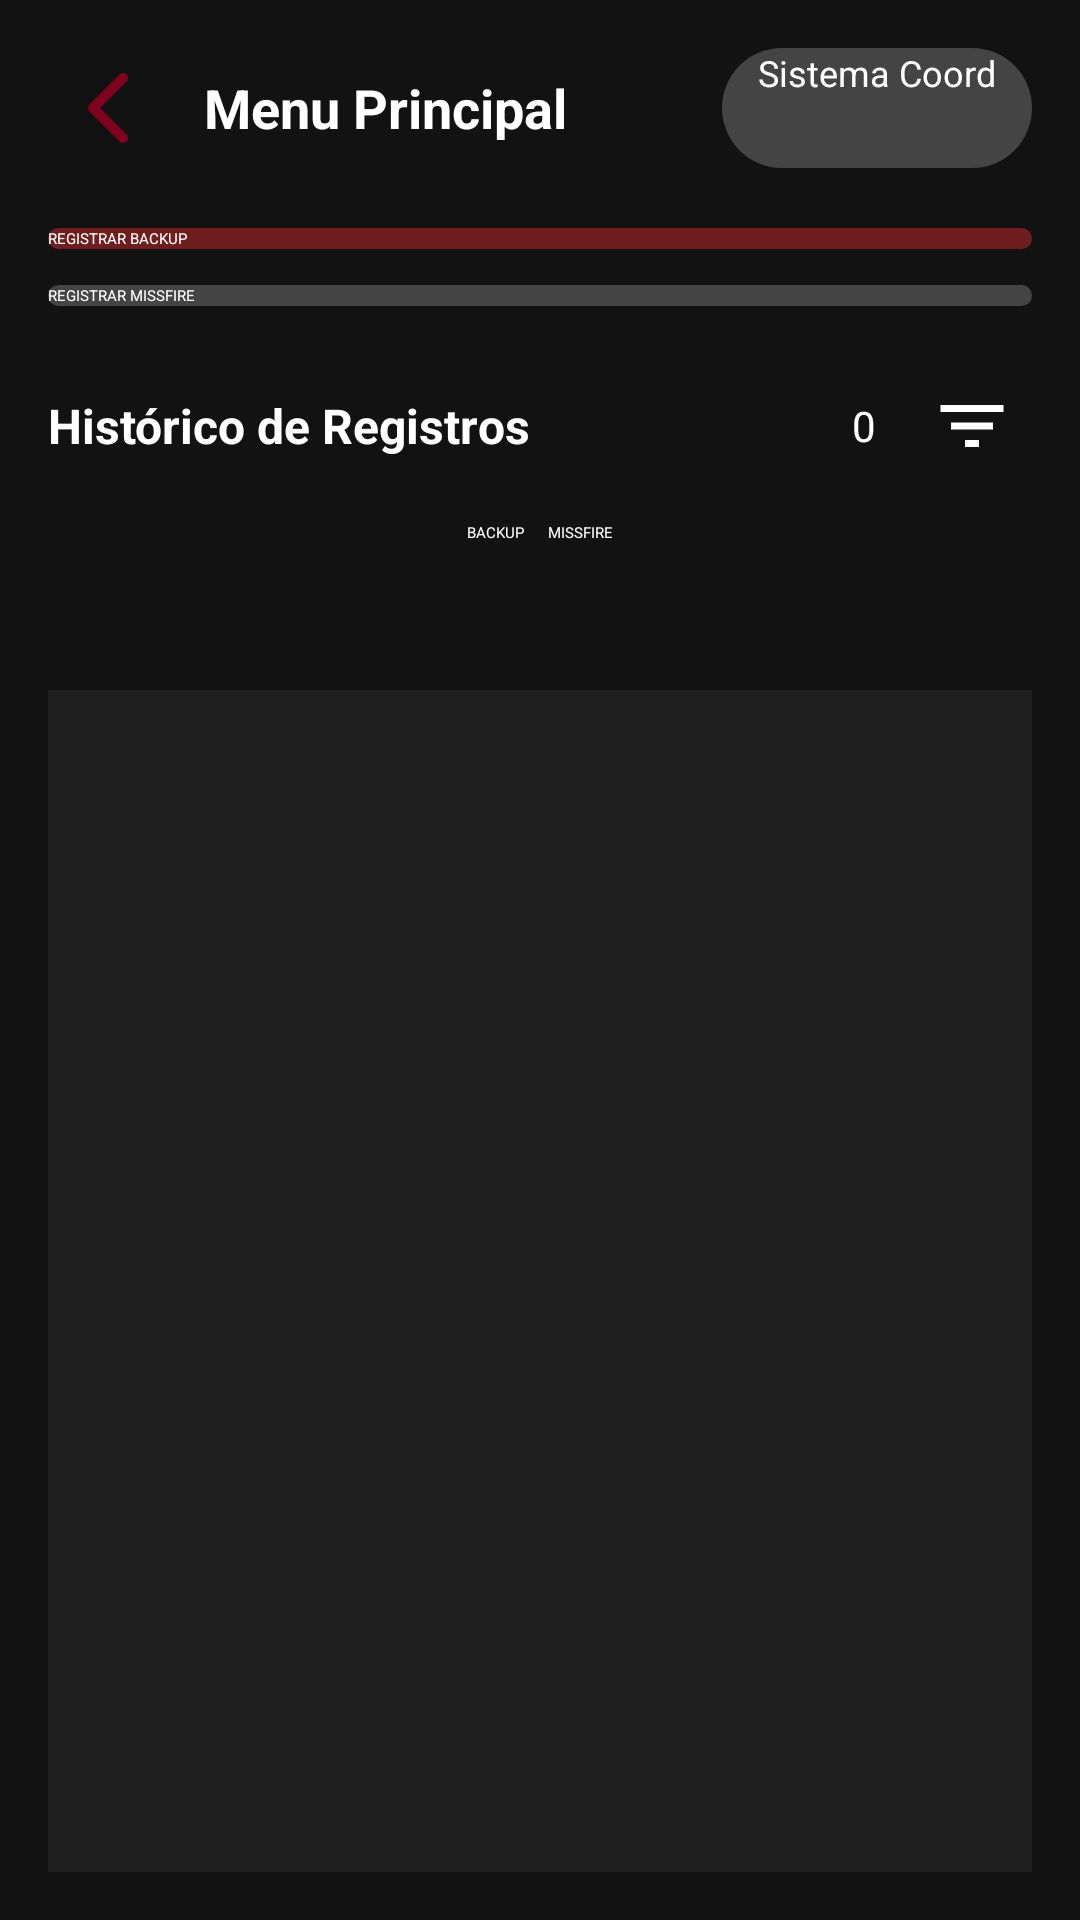

Where to tap for icons on this 1080 x 1920 app screen, as point (x, y):
arrow back: point (108, 108)
Filtro: point (972, 426)
